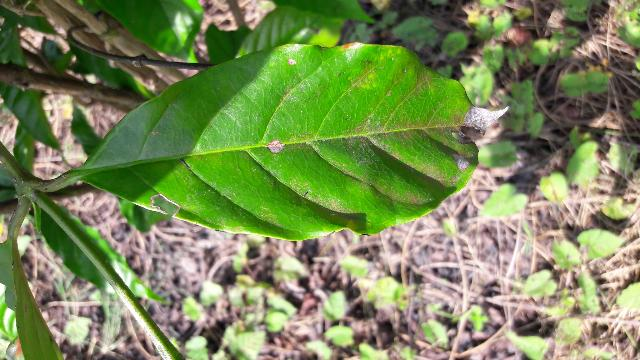red_spider_mite: (84, 48, 501, 239)
